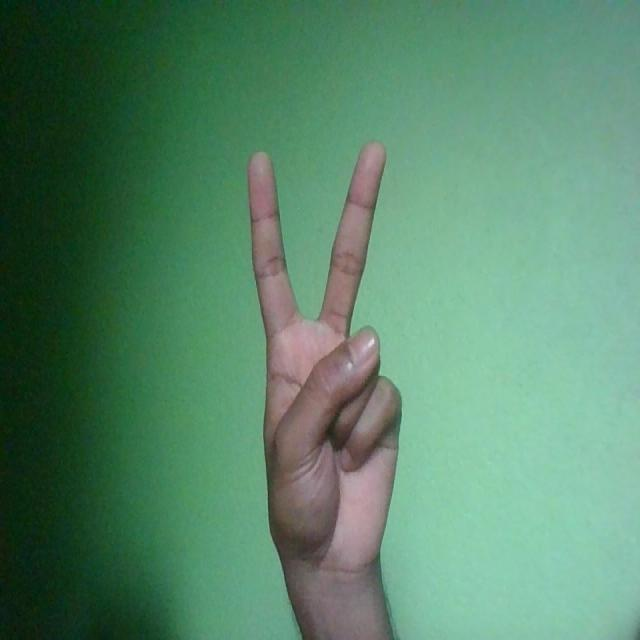Fist: (247, 140, 402, 581)
